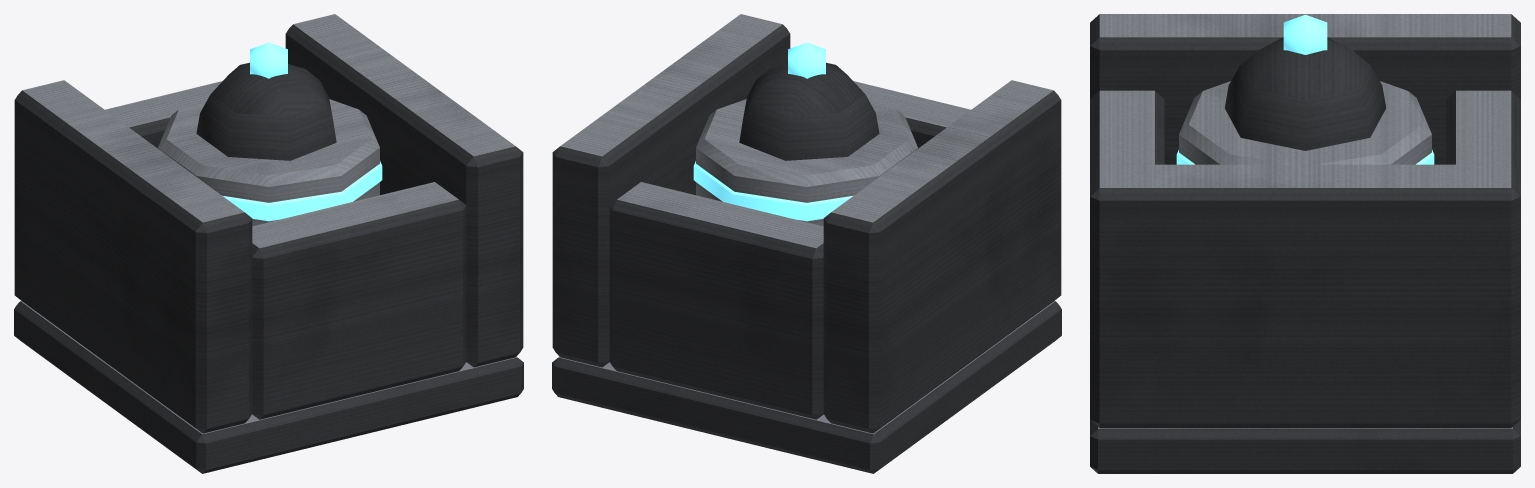
Rendered from R4X_DeployableShieldGenerator_LOD1.glb.
3 views of the same model, side by side, from view 1: azimuth 30°, elevation 25°; view 2: azimuth 150°, elevation 25°; view 3: azimuth 270°, elevation 25° (orthographic). The views are drawn at different scales.
Parts seen in each view (by area): view 1: R4X_DeployableShieldGenerator_LOD1; view 2: R4X_DeployableShieldGenerator_LOD1; view 3: R4X_DeployableShieldGenerator_LOD1.
Part boxes in pixels (x1,y1,x2,y2): R4X_DeployableShieldGenerator_LOD1: (14,14,523,473); R4X_DeployableShieldGenerator_LOD1: (552,14,1061,473); R4X_DeployableShieldGenerator_LOD1: (1090,14,1520,473).
Size of the model in its own units: 0.52 by 0.495 by 0.52.
3 materials, 2 textured.
